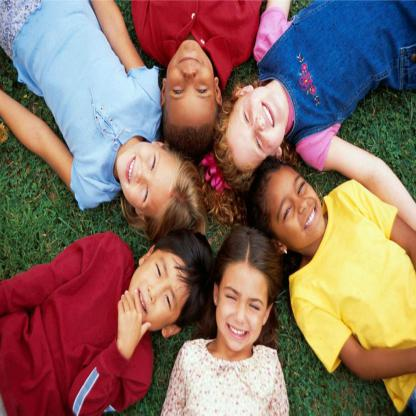face: (260, 169, 327, 245), (167, 43, 216, 134), (125, 257, 186, 330), (231, 86, 285, 163), (220, 264, 266, 351), (116, 144, 174, 212)
